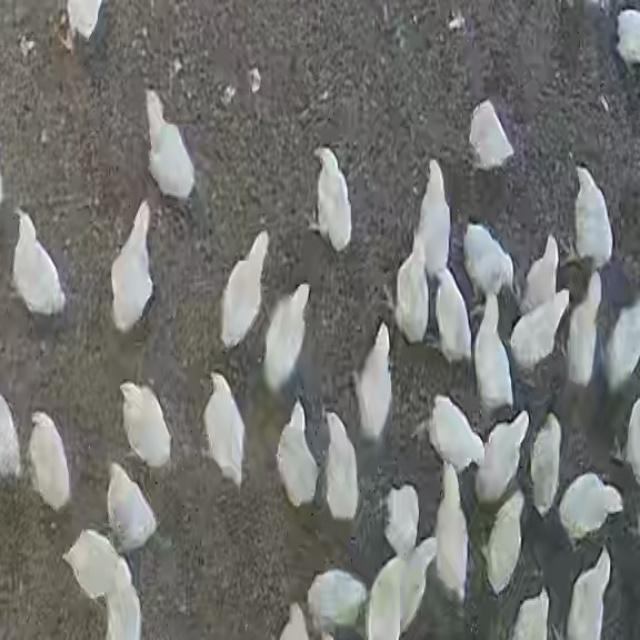chicken: (137, 86, 200, 200), (10, 208, 69, 320), (109, 200, 156, 336), (219, 229, 271, 351), (199, 370, 250, 492), (508, 286, 570, 377), (264, 284, 312, 396), (308, 140, 354, 254), (471, 294, 514, 415), (475, 408, 528, 506), (433, 465, 471, 599), (119, 379, 173, 473), (106, 461, 158, 553), (428, 392, 484, 477), (557, 472, 624, 543), (277, 400, 320, 509), (356, 323, 394, 446), (26, 411, 72, 512), (66, 527, 133, 595), (565, 272, 603, 388), (573, 163, 614, 269), (566, 547, 612, 638), (485, 491, 526, 593), (461, 220, 514, 298), (307, 569, 367, 637), (527, 411, 565, 518), (417, 159, 451, 276), (324, 412, 360, 522), (396, 240, 432, 346), (436, 268, 474, 365), (604, 293, 640, 395), (466, 99, 514, 175), (521, 234, 560, 315), (104, 559, 140, 640), (386, 482, 422, 556), (508, 586, 556, 640), (66, 2, 106, 43), (616, 8, 640, 66), (281, 601, 308, 640)
